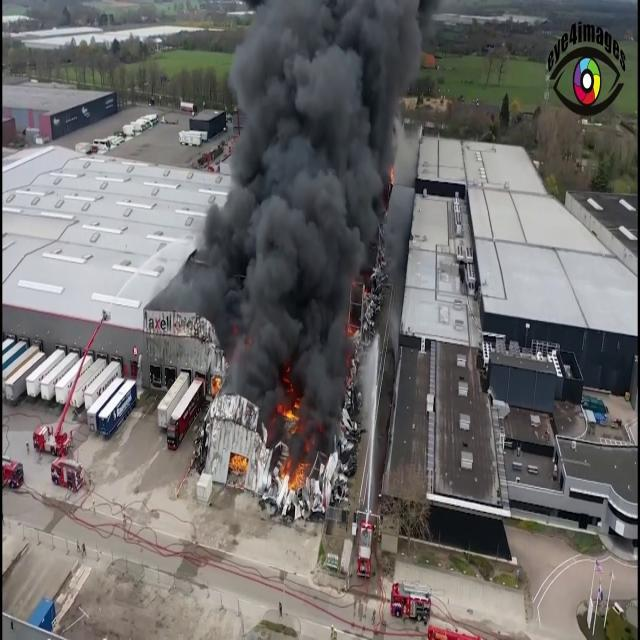Smoke: (151, 0, 431, 419)
